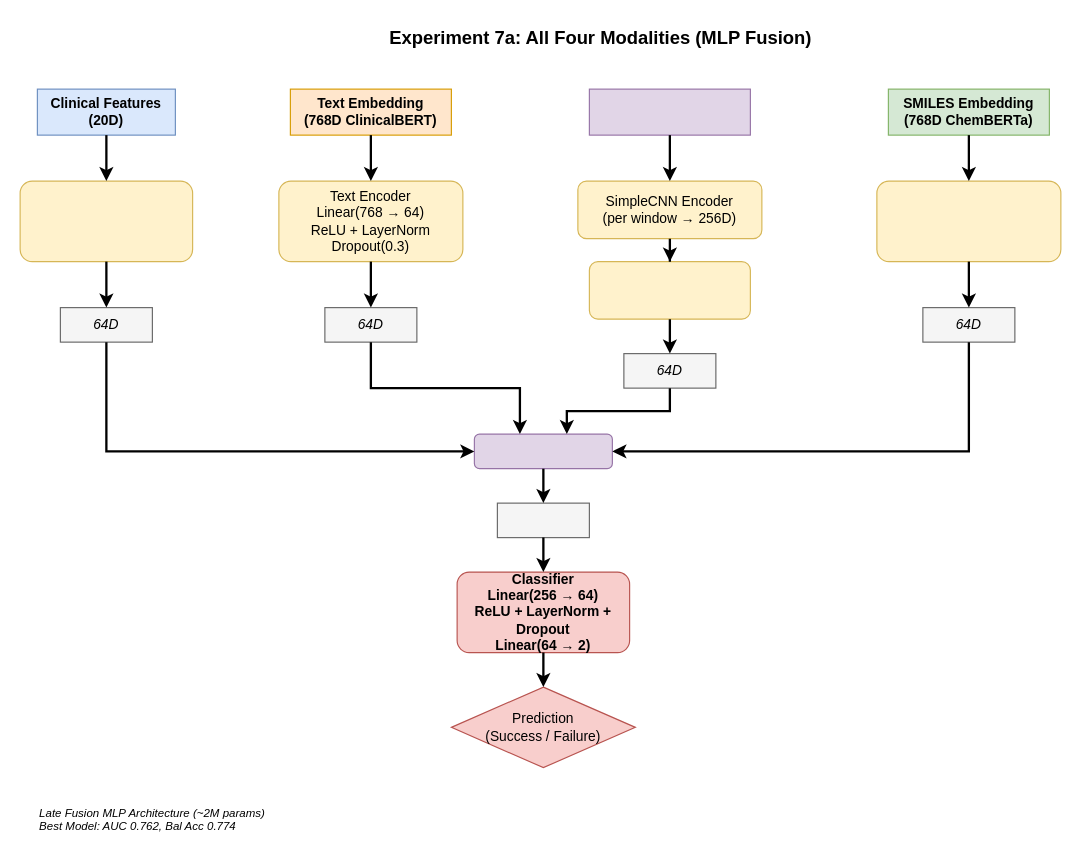
This 1081x856 diagram has some shape labels left out. Here are the shapes that lost their labels. From the top down, the centre of each, then its label:
[669,111]: EEG Windows (N x 27ch x 2000)
[106,221]: Clinical Encoder Linear(20 → 64) ReLU + LayerNorm Dropout(0.3)
[968,221]: SMILES Encoder Linear(768 → 64) ReLU + LayerNorm Dropout(0.3)
[669,289]: Transformer + Pool (2L, 4H) → 64D
[542,451]: Concatenate
[542,520]: 256D
